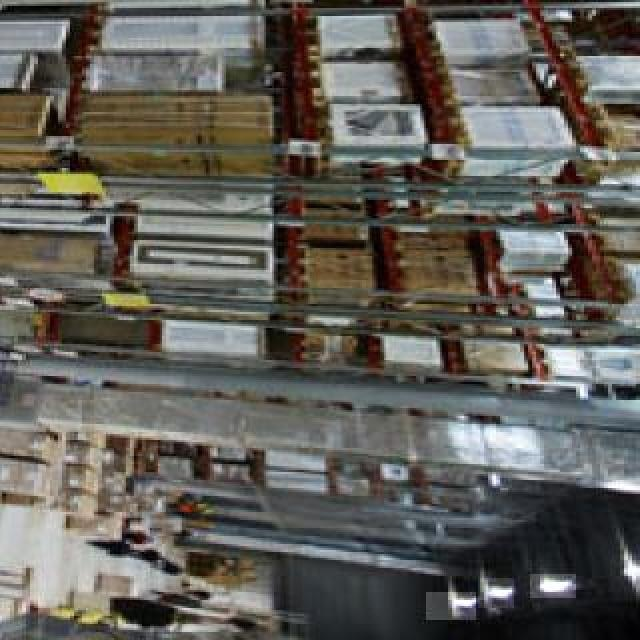fluorescent tube: (536, 574, 589, 606), (484, 565, 520, 600), (447, 595, 478, 620)
